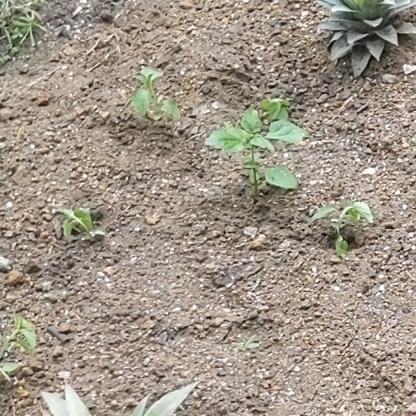pineapple: (314, 1, 416, 77)
weed: (206, 98, 308, 197), (128, 66, 182, 138), (310, 198, 373, 254), (50, 200, 100, 244)
